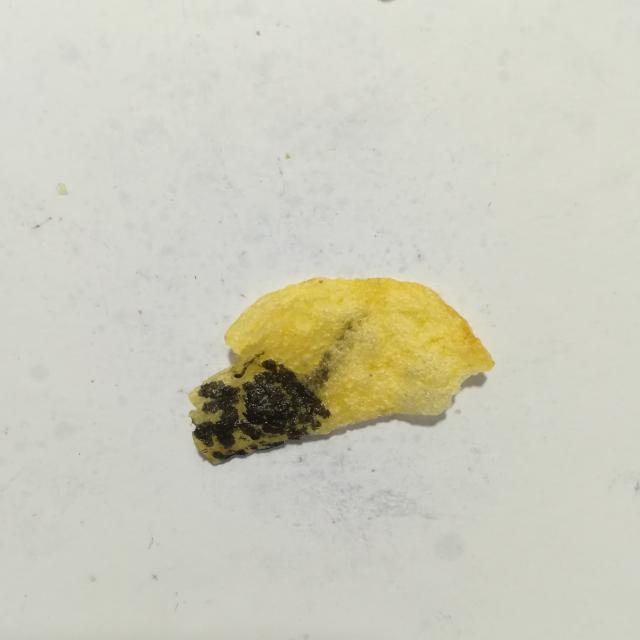chip: (189, 278, 494, 464)
damaged: (194, 359, 330, 449), (233, 351, 264, 378), (212, 449, 247, 460), (255, 440, 285, 451), (249, 444, 258, 449)
semi-damaged: (302, 320, 358, 393)
